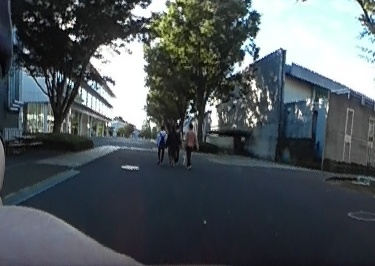person: (184, 122, 196, 168), (169, 122, 181, 163), (155, 121, 167, 162)
